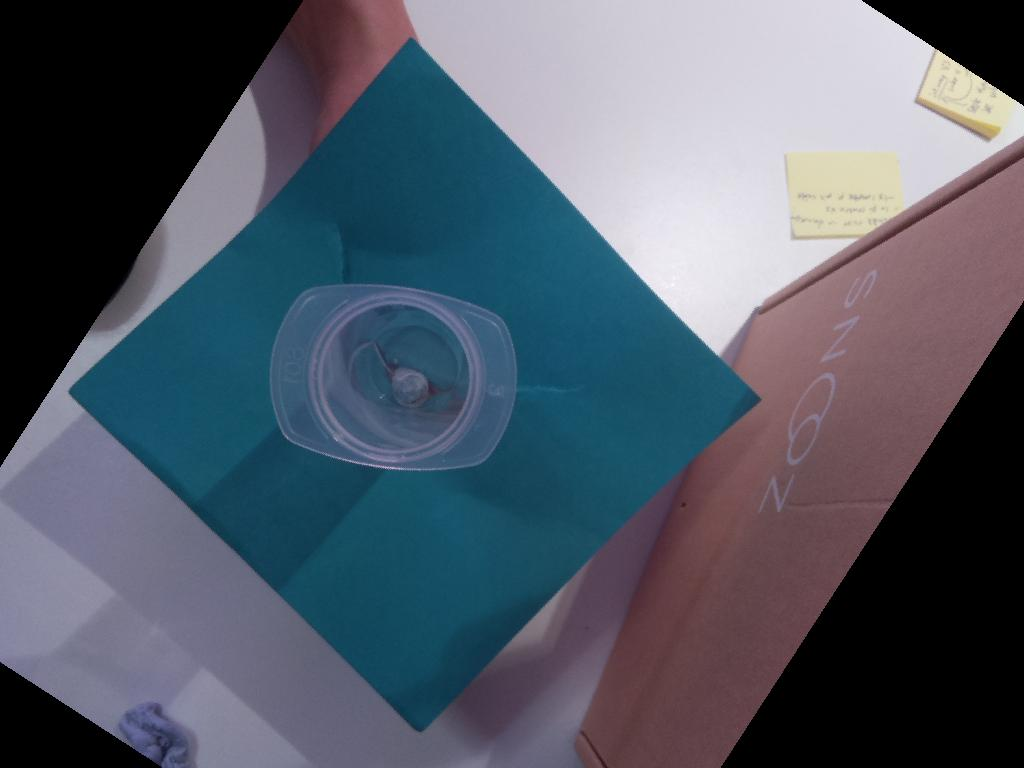clean: (267, 282, 525, 473)
